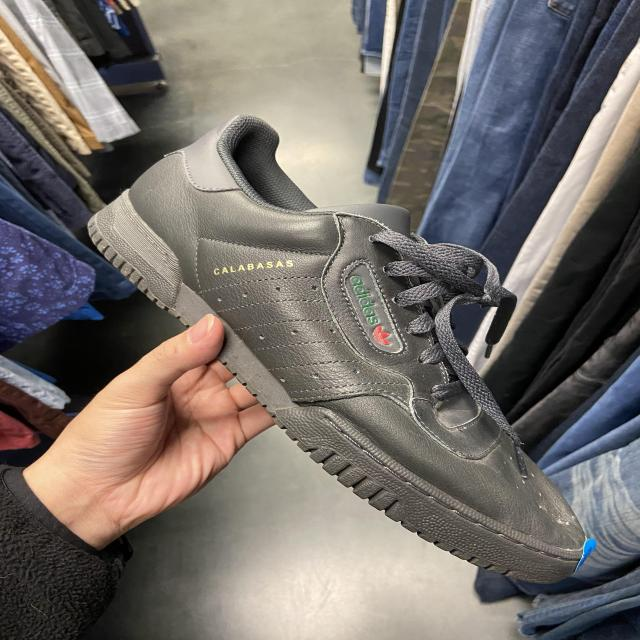shoe: (81, 107, 600, 590)
